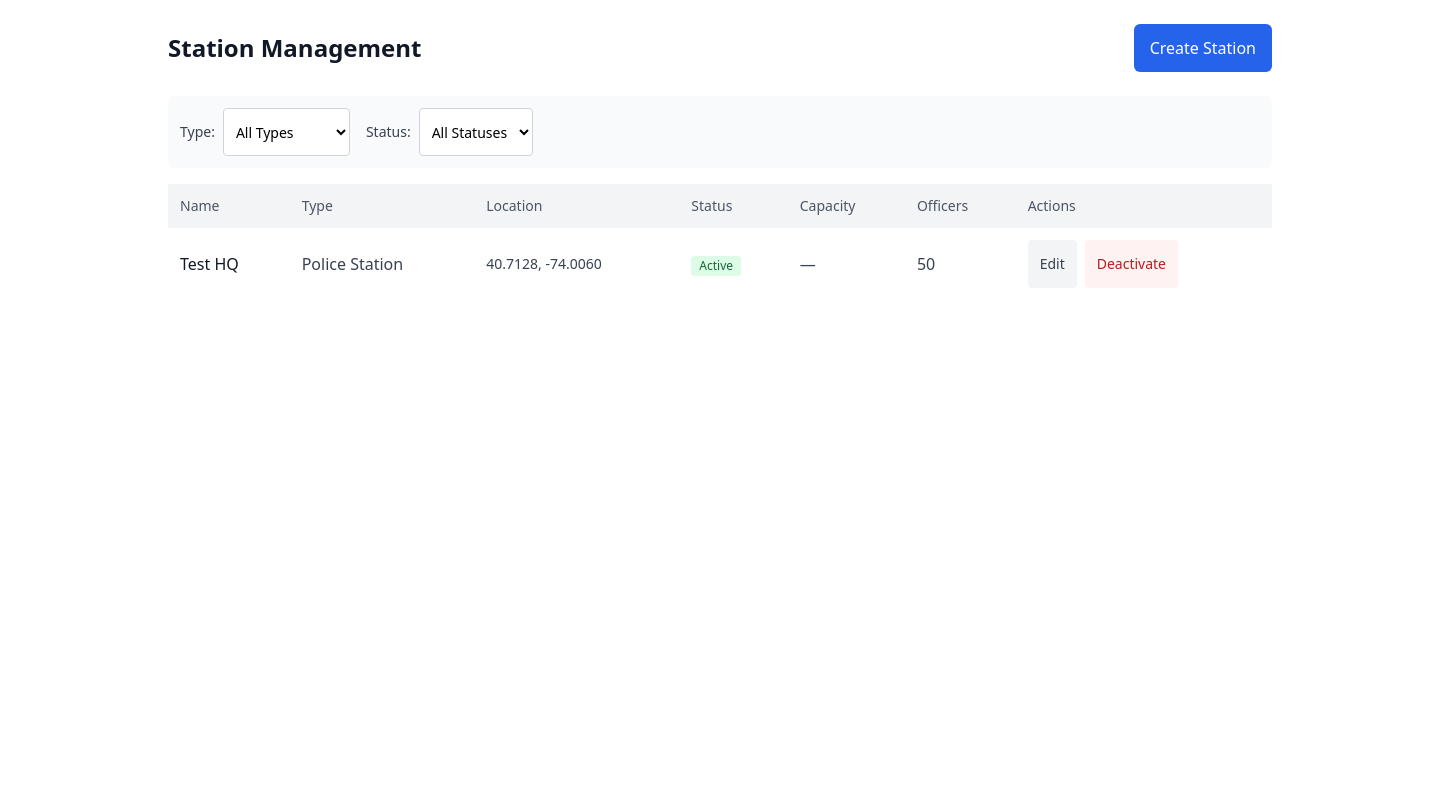
Scenario: StationManagement › opens edit form with pre-filled data when Edit is clicked
Click the button with test id "edit-btn-s1".
click(1052, 264)  # box [1028,240,1077,288]
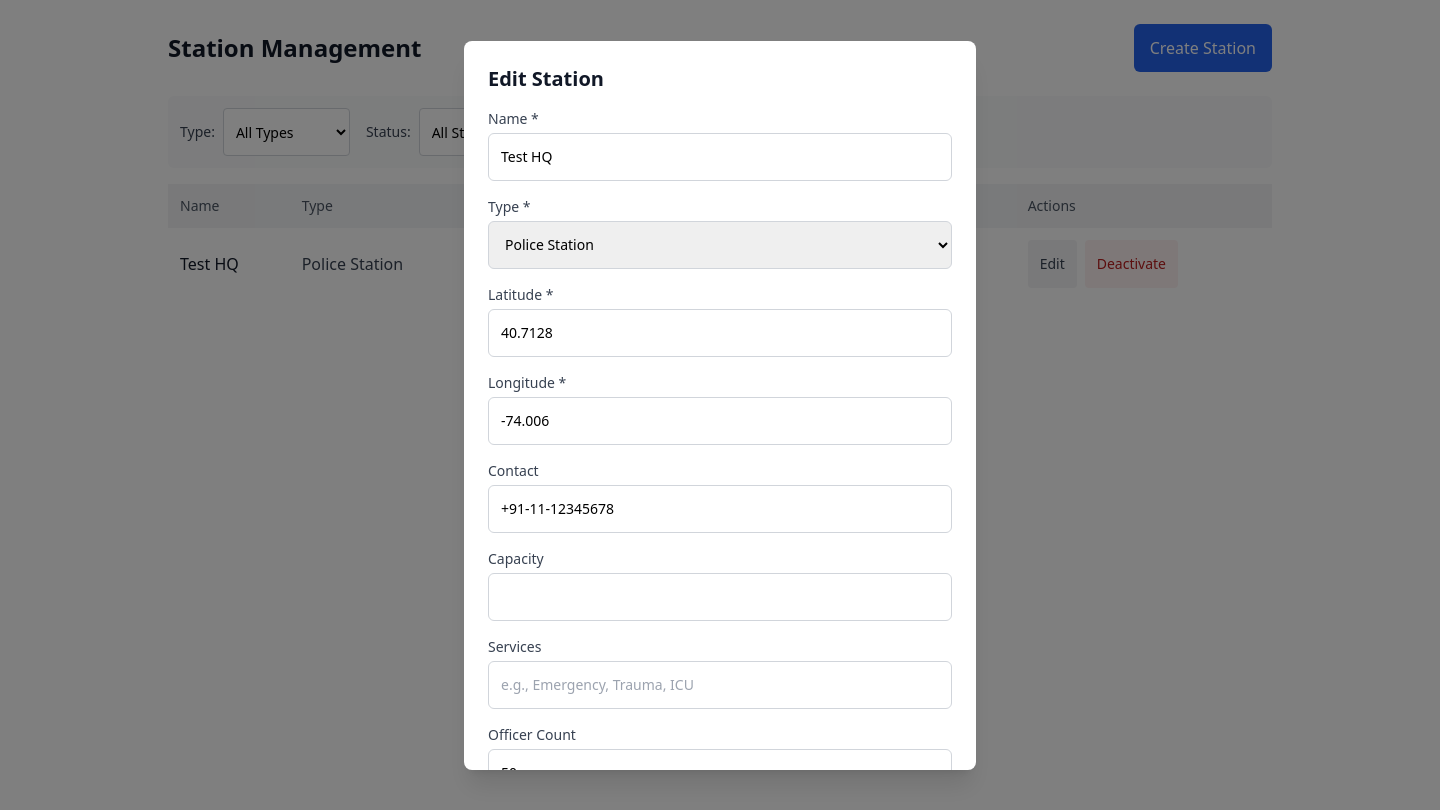
Expected: the dialog with test id "station-form-modal" is shown
Expected: the heading "Edit Station" is shown, [488,64,604,92]
Expected: the field with test id "input-name" holds "Test HQ", [488,132,952,180]
